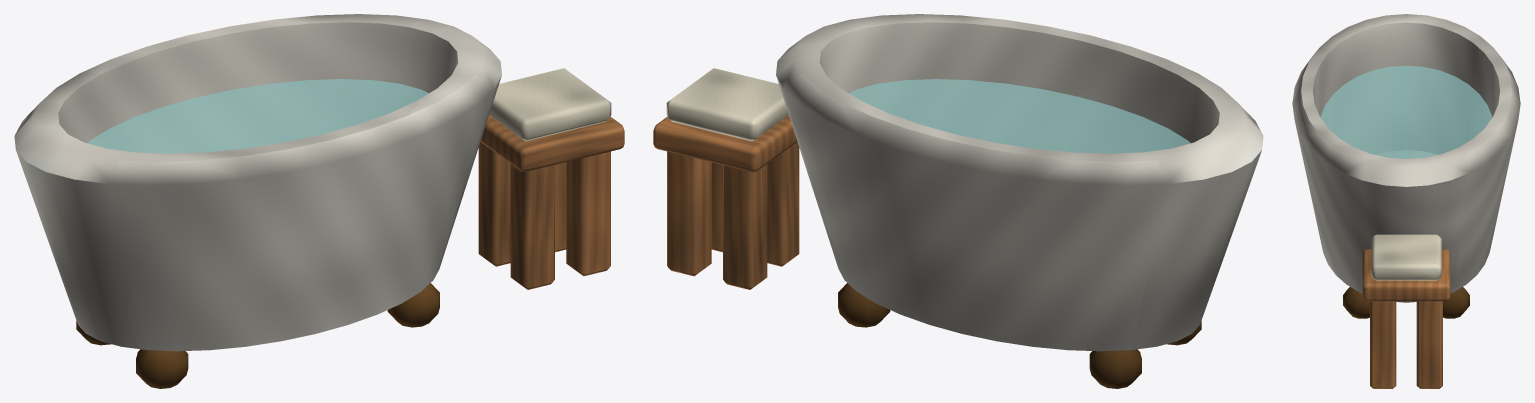
Rendered from Furn_Life_ClawTub.fbx.
The picture shows the model from 3 angles, left to right: view 1: azimuth 30°, elevation 25°; view 2: azimuth 150°, elevation 25°; view 3: azimuth 270°, elevation 25°; orthographic projection. The views are drawn at different scales.
Visible parts, largest first — view 1: Furn_Life_ClawTub, Water; view 2: Furn_Life_ClawTub, Water; view 3: Furn_Life_ClawTub, Water.
Part boxes in pixels (left/top/right/bottom): Furn_Life_ClawTub: left=14, top=14, right=624, bottom=388; Water: left=87, top=79, right=428, bottom=153; Furn_Life_ClawTub: left=653, top=14, right=1263, bottom=388; Water: left=849, top=79, right=1190, bottom=153; Furn_Life_ClawTub: left=1292, top=14, right=1520, bottom=388; Water: left=1320, top=65, right=1492, bottom=158.
Bounding box in the file's own units: 1.7 × 0.7 × 0.8.
2 materials, 1 textured.
